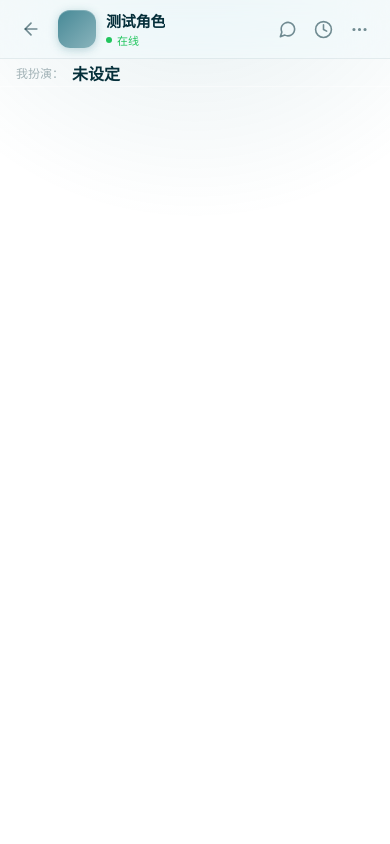
Test: 记忆面板：没配齐自己的 key 时给引导 › configured: false → 显示引导文案，不显示「自动记录」与「添加记忆」
Click the button named "更多": (359, 29) [342,12,376,46]
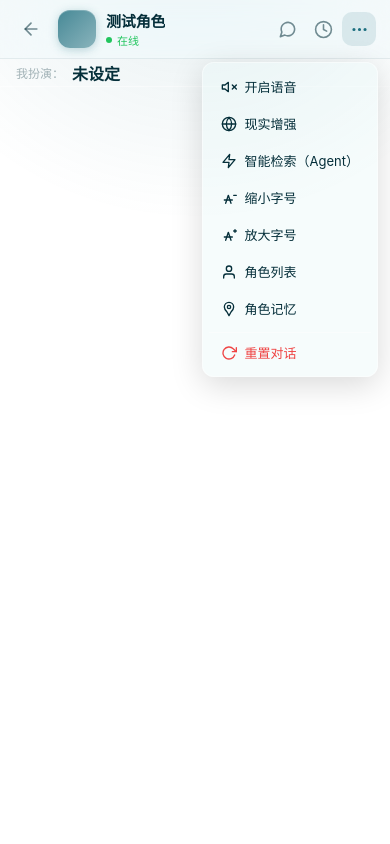
Click the button with class "chat-more-item" showing "角色记忆": (290, 308) [208,291,371,326]
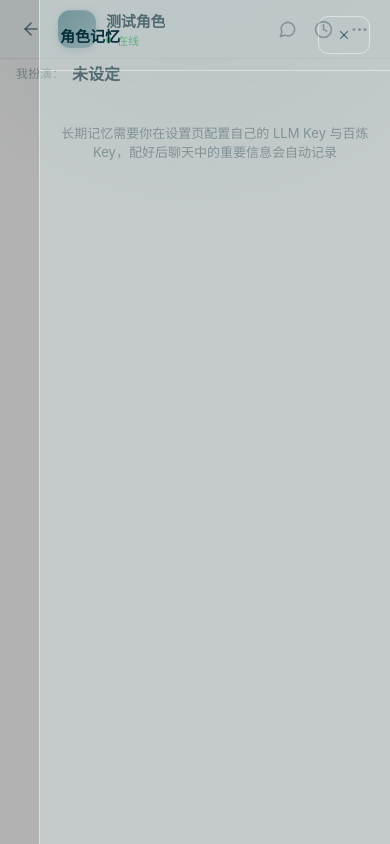
Expected: the element with class "memory-panel" is shown
Expected: the text with class "memory-unconfigured" shows "百炼 Key", [61,125,369,160]
